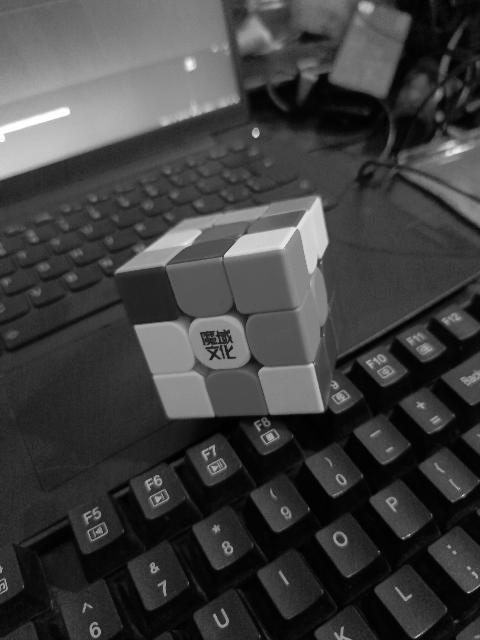rubik: (113, 194, 342, 420)
